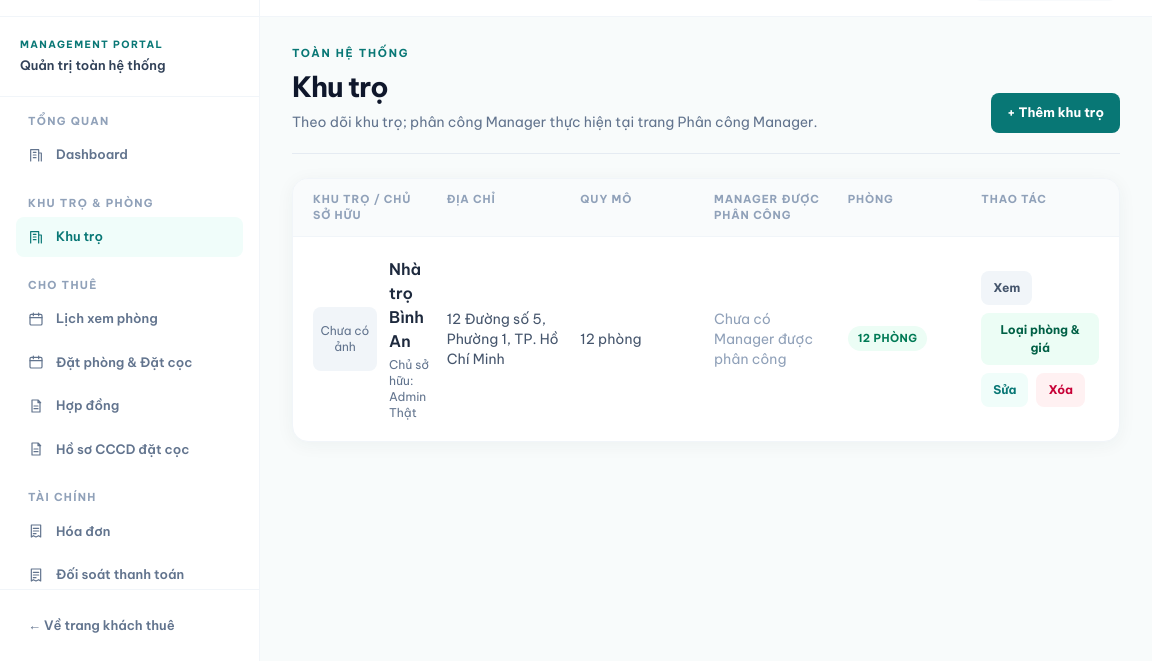
Test: management property and room CRUD › uses a room column and opens the selected property's rooms
This screenshot has width=1152, height=661.
Expected: the text "Phòng" is shown, [848,192,894,206]
Click the button with aria-label "Xem 12 phòng của Nhà trọ Bình An". click: (888, 339)
box: [848,326,927,351]
(page scrolled)
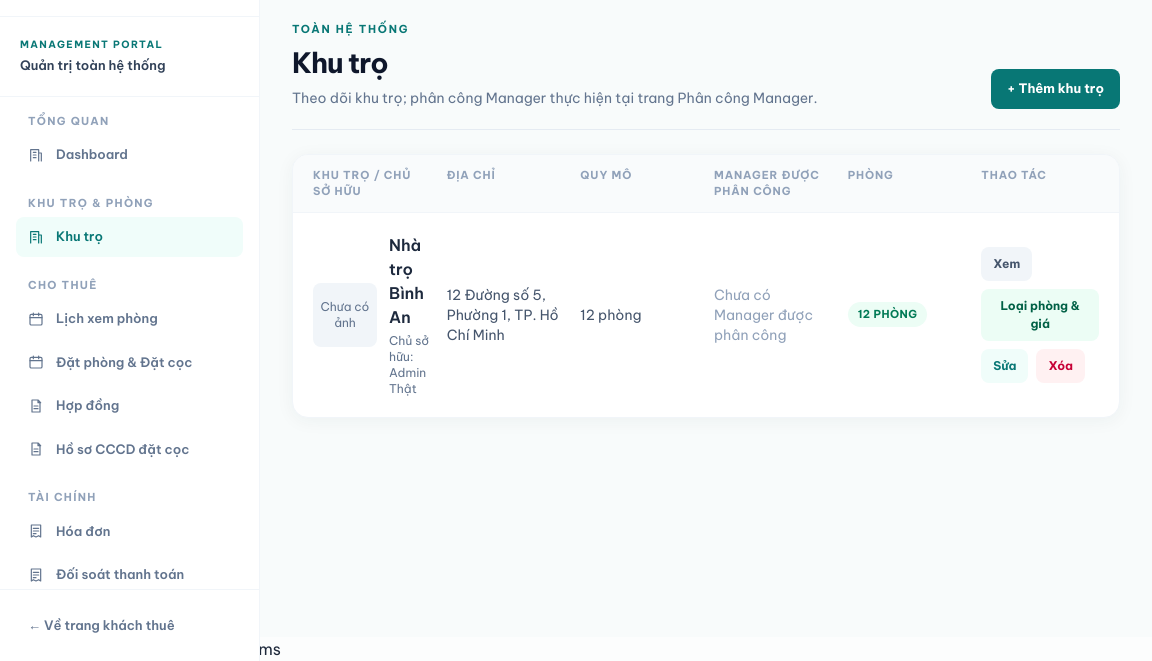
Now the text with test id "location-probe" reads "/management/properties/21/rooms", box [0,639,281,659]
